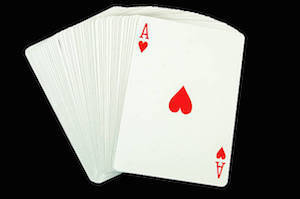AceOfHearts: (124, 15, 239, 188)
